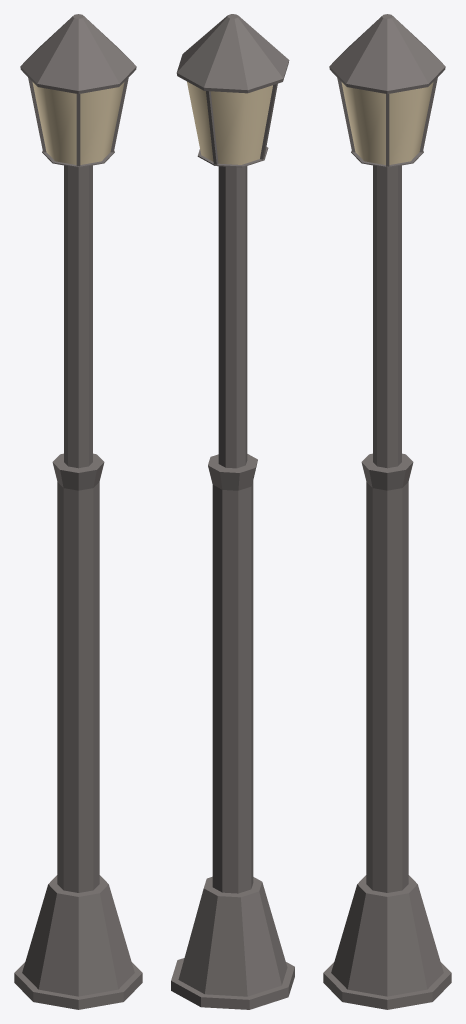
The model's file is Lamp.obj.
3 views of the same model, side by side, from view 1: azimuth 90°, elevation 25°; view 2: azimuth 150°, elevation 25°; view 3: azimuth 270°, elevation 25° (orthographic).
Visible parts, largest first — view 1: SM_Lamp_01; view 2: SM_Lamp_01; view 3: SM_Lamp_01.
Boxes of the visible parts, <box> form: SM_Lamp_01: <box>14,14,142,1009</box>; SM_Lamp_01: <box>171,14,294,1009</box>; SM_Lamp_01: <box>323,14,451,1009</box>.
Size of the model in its own units: 0.3532 by 2.94 by 0.3532.
